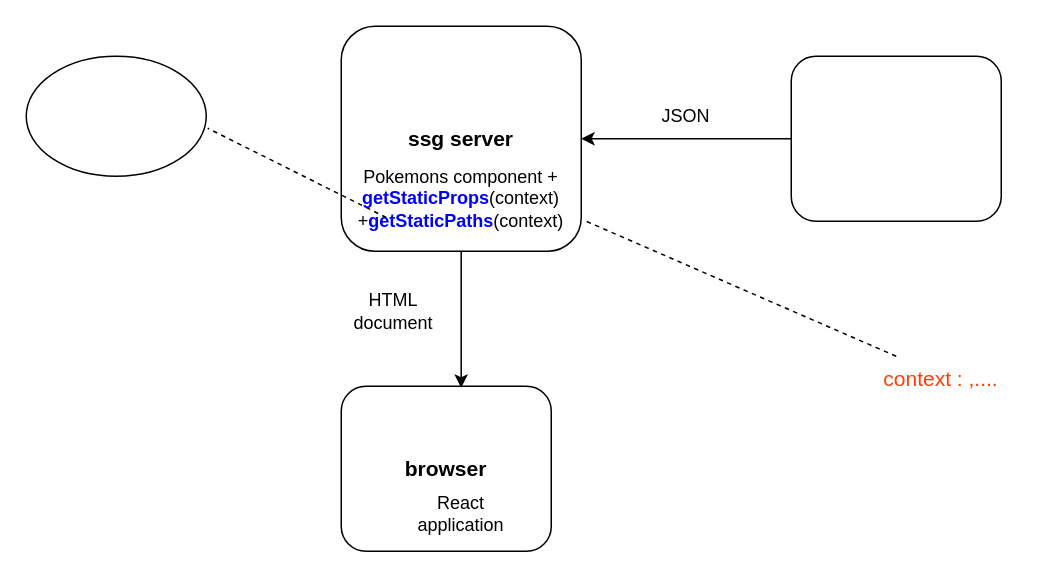
Image size: 1058x578. Some labels were removed from this diagram. The centre of each missing label's shape, as x and y in pixels:
amazon pokemon server: (x=895, y=138)
invoked on build time: (x=115, y=115)
